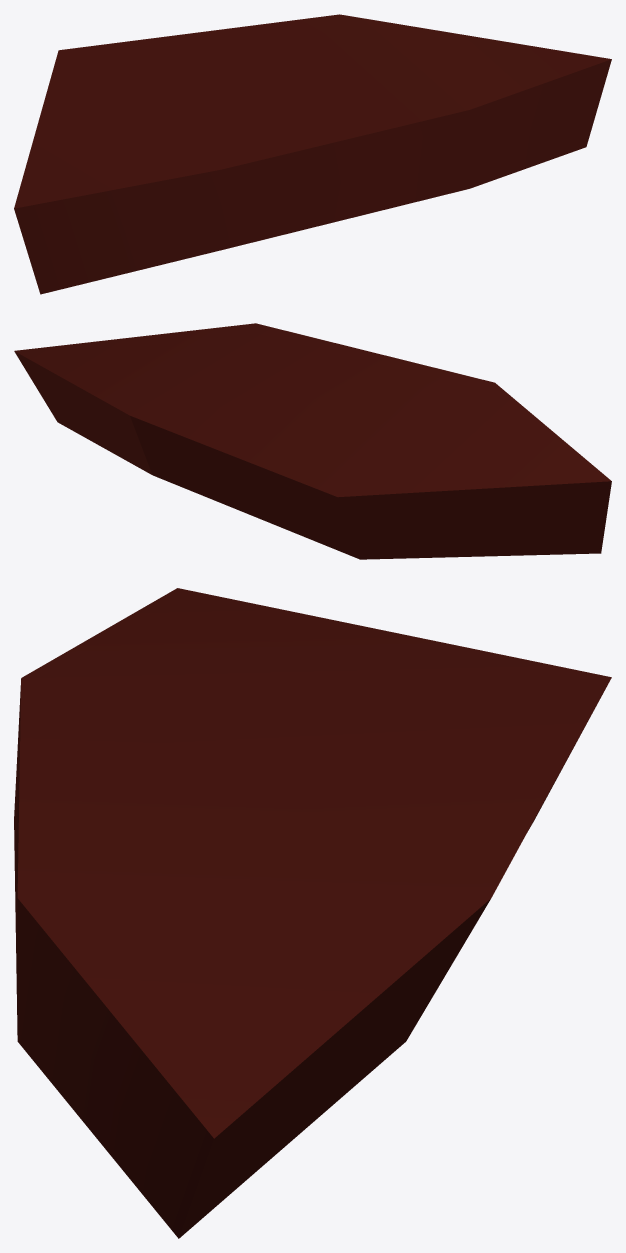
Rendered from TerracottaDebris02.FBX.
3 renders of one model, top to bottom at view 1: azimuth 30°, elevation 25°; view 2: azimuth 150°, elevation 25°; view 3: azimuth 270°, elevation 25°, orthographic. The views are drawn at different scales.
Parts seen in each view (by area): view 1: TerracottaDebris02; view 2: TerracottaDebris02; view 3: TerracottaDebris02.
Boxes of the visible parts, x1=… form: TerracottaDebris02: x1=14, y1=14, x2=611, y2=294; TerracottaDebris02: x1=14, y1=323, x2=611, y2=559; TerracottaDebris02: x1=14, y1=588, x2=611, y2=1238.
Size of the model in its own units: 40.32 by 7.34 by 18.89.
